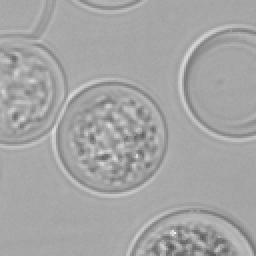picoshell: (52, 78, 166, 196), (178, 24, 254, 140), (0, 38, 66, 148), (122, 202, 254, 254), (72, 0, 146, 12)
